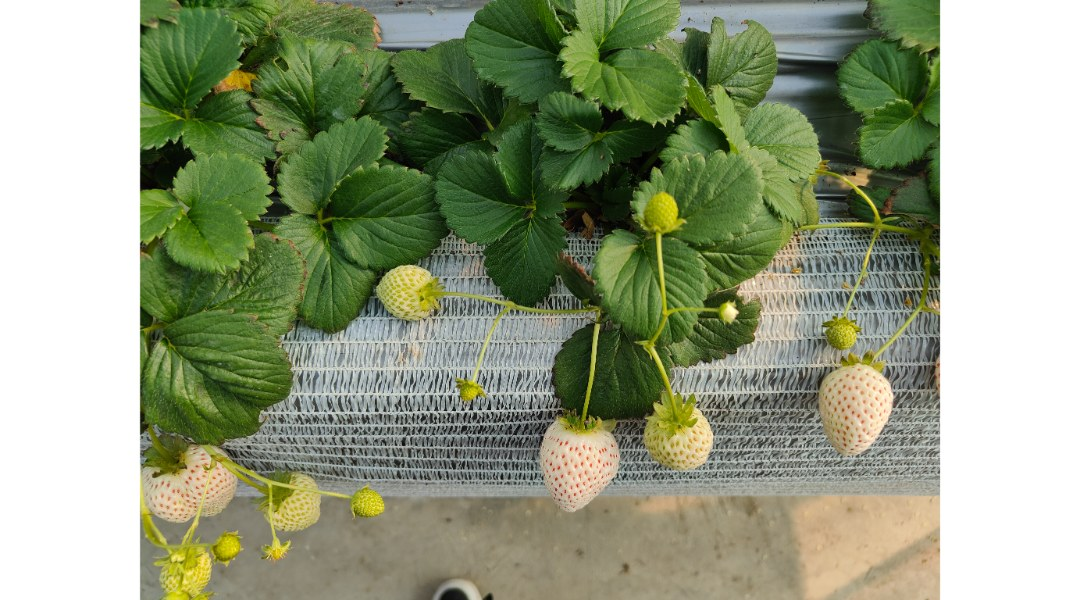berry: (545, 404, 622, 521), (819, 359, 890, 465), (363, 263, 449, 327), (647, 401, 711, 475), (184, 444, 240, 523), (261, 470, 329, 535), (144, 456, 204, 526), (158, 537, 217, 587), (642, 187, 679, 243), (345, 485, 396, 518), (262, 539, 295, 571), (823, 319, 861, 346), (454, 377, 479, 414), (217, 535, 240, 560)
strain: (574, 323, 601, 410), (873, 310, 918, 358), (471, 310, 506, 368), (514, 298, 587, 319), (847, 248, 872, 309), (653, 356, 679, 397), (796, 220, 871, 232), (654, 231, 663, 308)
